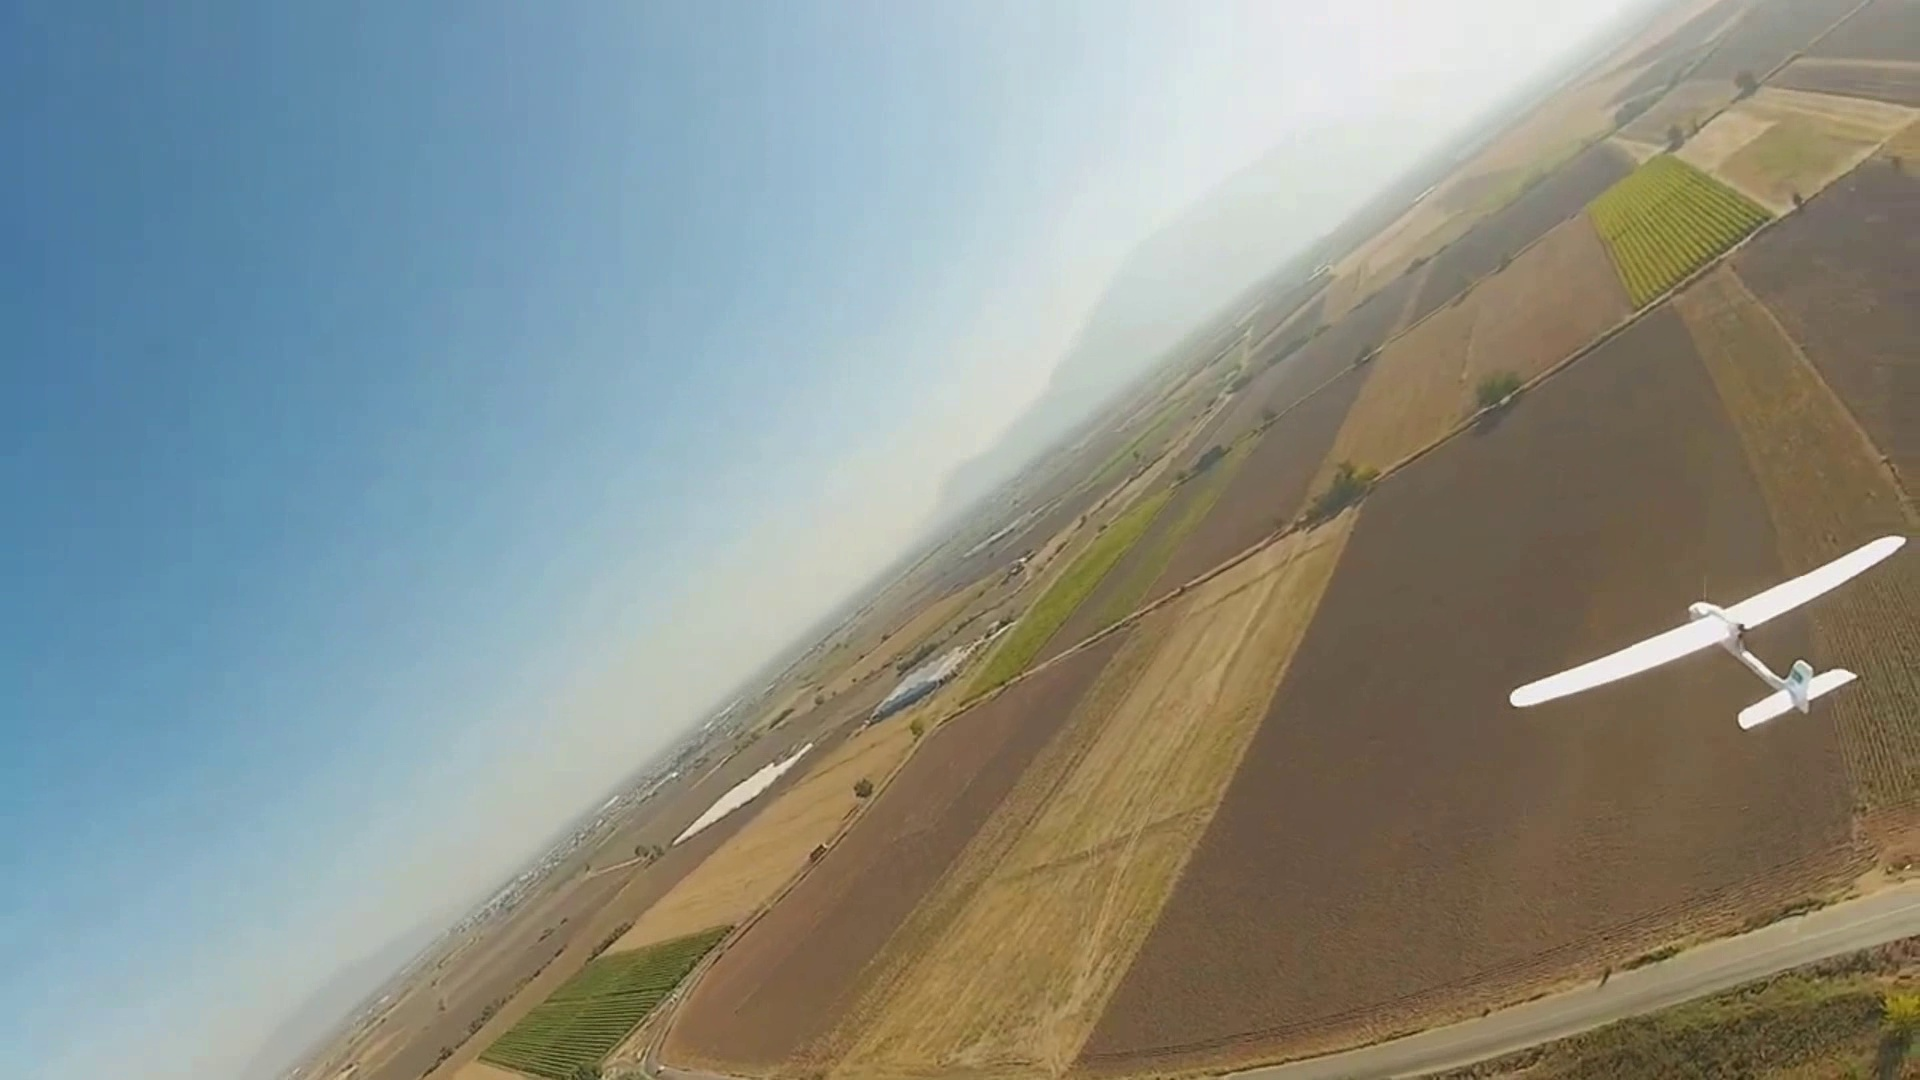airplane: (1510, 531, 1909, 735)
